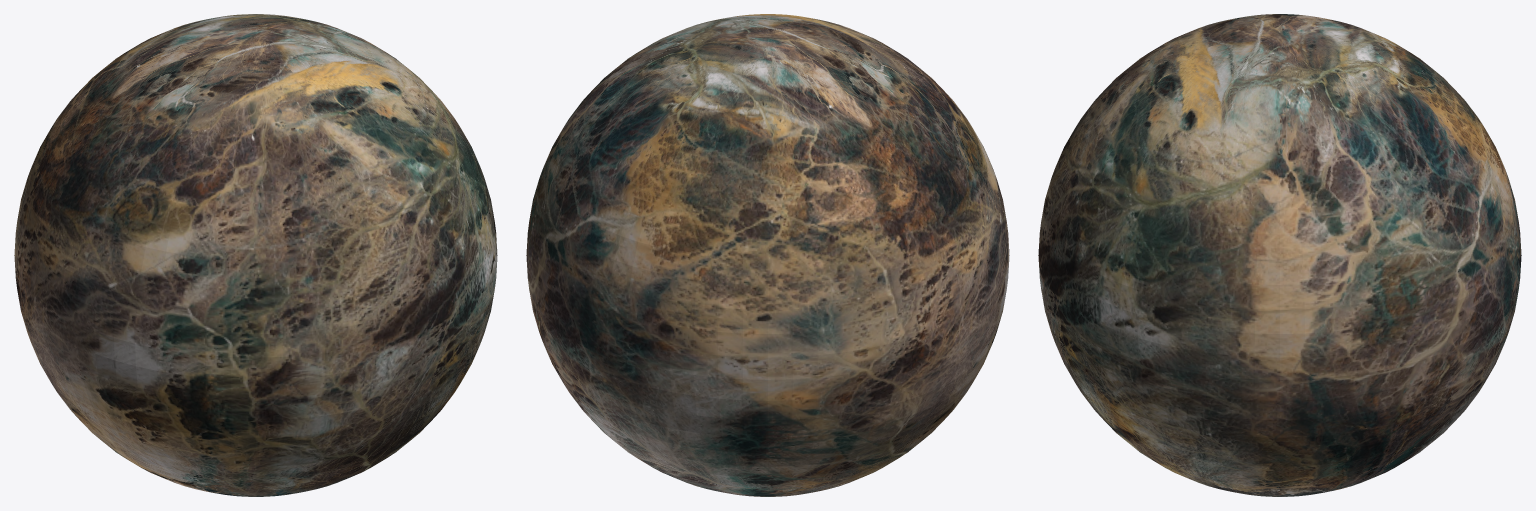
File: Metal.fbx
3 renders of one model, left to right at view 1: azimuth 30°, elevation 25°; view 2: azimuth 150°, elevation 25°; view 3: azimuth 270°, elevation 25°, orthographic.
Visible parts, largest first — view 1: Metal; view 2: Metal; view 3: Metal.
Part boxes in pixels (x1=…): Metal: x1=14, y1=14, x2=497, y2=496; Metal: x1=526, y1=14, x2=1009, y2=496; Metal: x1=1038, y1=14, x2=1521, y2=496.
Bounding box in the file's own units: 2202 × 2202 × 2202.
Materials: 1 (1 with a texture image).
